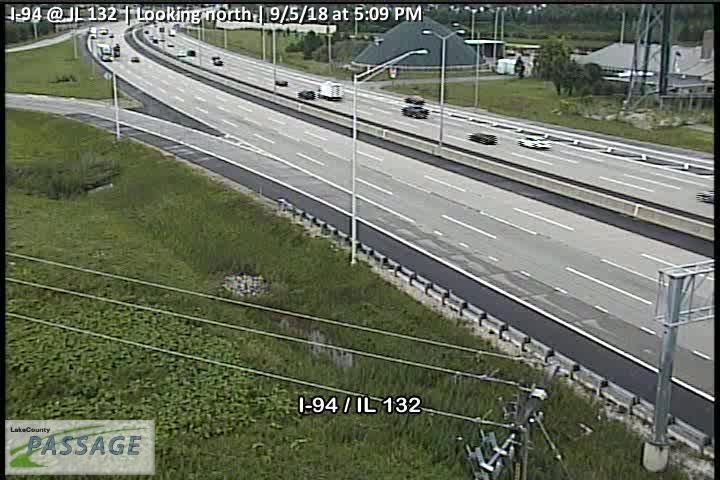Sedan: (518, 135, 552, 150), (468, 131, 497, 144), (402, 106, 428, 117), (299, 90, 314, 99)
Truck: (319, 81, 345, 99), (97, 44, 112, 61)
